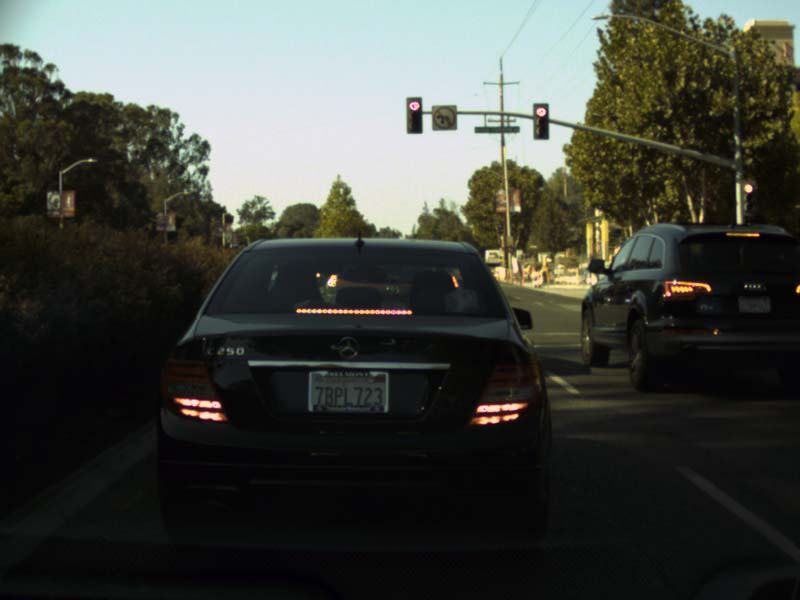Red: (532, 103, 549, 139), (739, 180, 755, 217), (406, 97, 422, 133)
